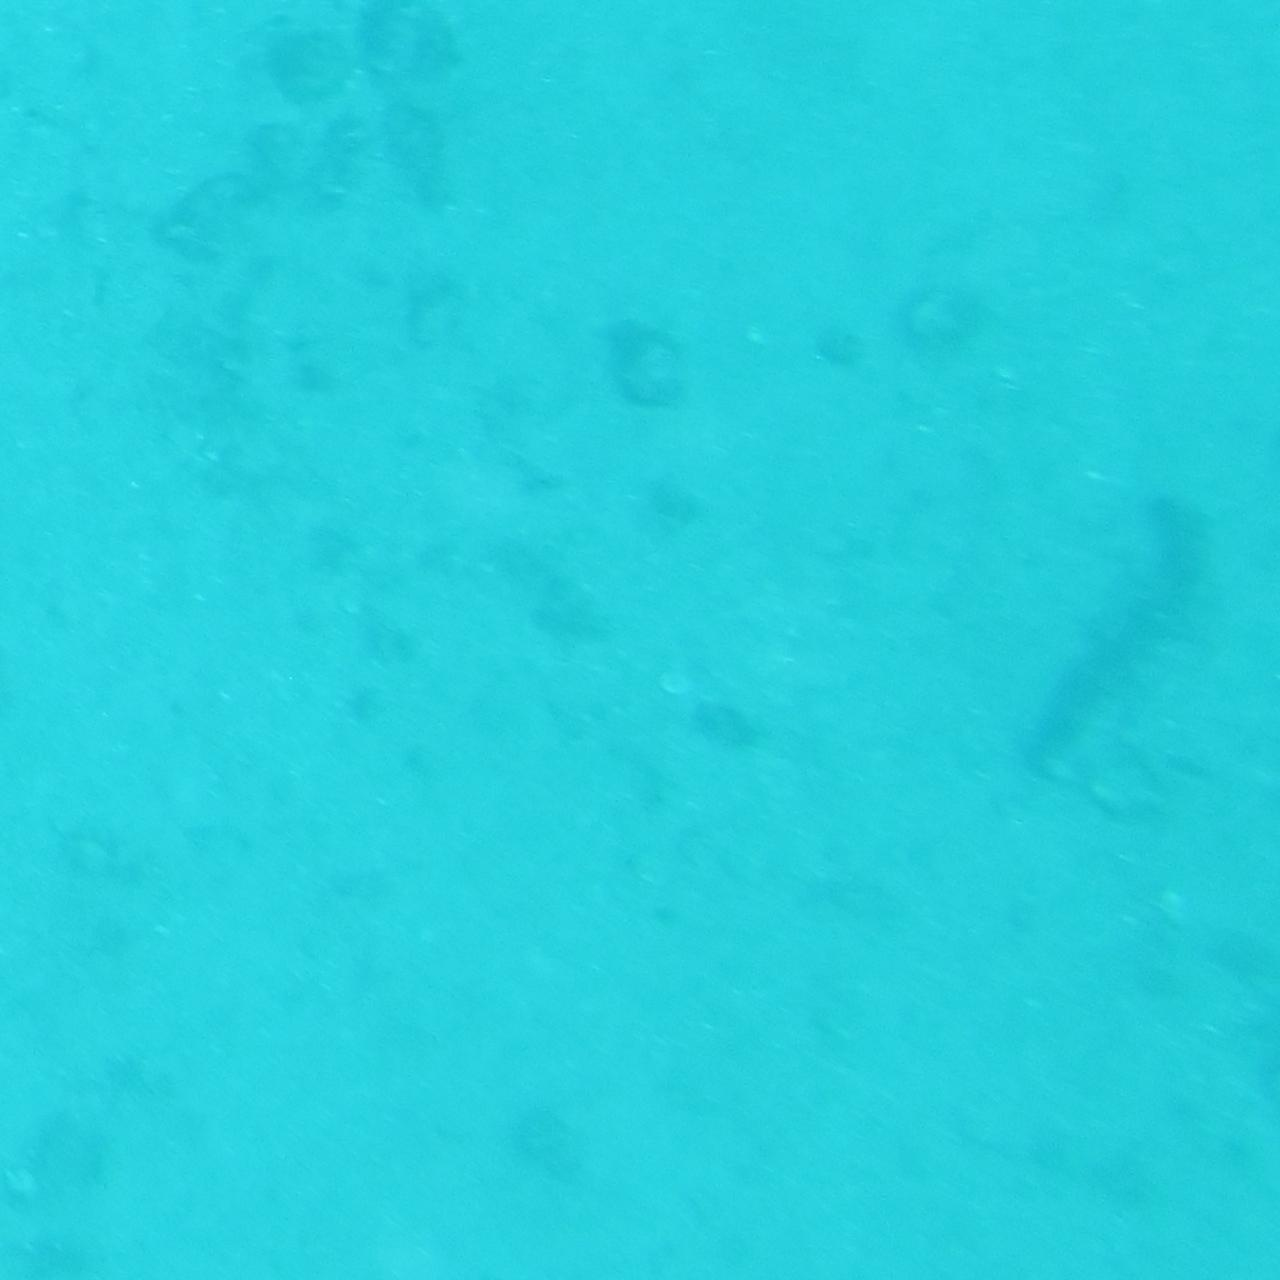Holothuria tubulosa: (1016, 477, 1223, 803)
